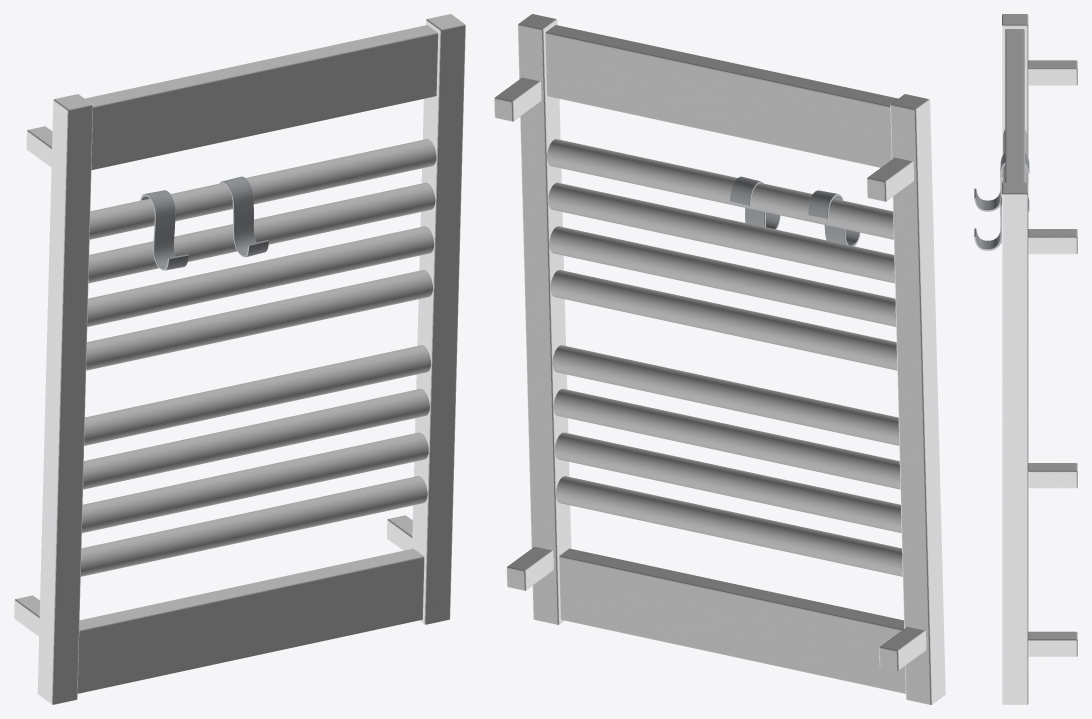
File: Dryer.obj
The picture shows the model from 3 angles, left to right: view 1: azimuth 30°, elevation 25°; view 2: azimuth 150°, elevation 25°; view 3: azimuth 270°, elevation 25°; orthographic projection. The views are drawn at different scales.
Visible parts, largest first — view 1: Radiator, Hooker, Hooker2; view 2: Radiator, Hooker, Hooker2; view 3: Radiator, Hooker, Hooker2.
Part boxes in pixels (<box>): Radiator: <box>14,14,465,704</box>; Hooker: <box>140,190,188,270</box>; Hooker2: <box>219,176,268,257</box>; Radiator: <box>494,14,945,704</box>; Hooker: <box>808,190,860,246</box>; Hooker2: <box>730,176,780,229</box>; Radiator: <box>1002,14,1077,704</box>; Hooker: <box>974,153,1029,211</box>; Hooker2: <box>974,196,1029,250</box>.
Size of the model in its own units: 22.09 by 30.74 by 5.45.
